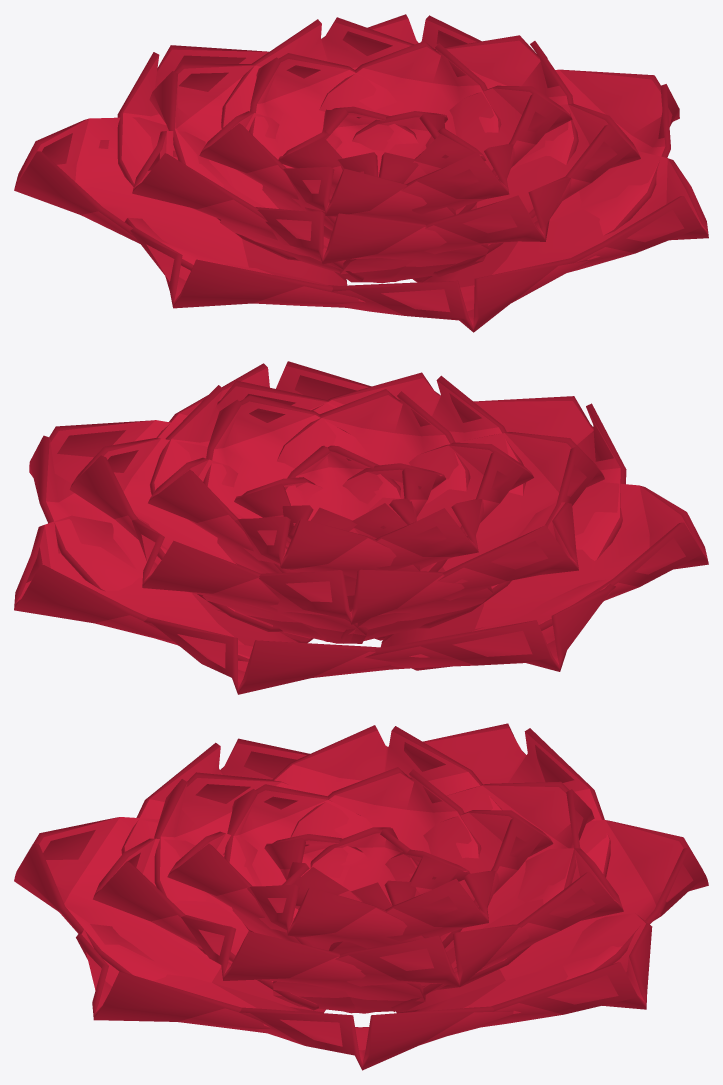
File: garden-rose-bloom-head-0-c41e39.glb
3 views of the same model, one above another, from view 1: azimuth 30°, elevation 25°; view 2: azimuth 150°, elevation 25°; view 3: azimuth 270°, elevation 25° (orthographic). The views are drawn at different scales.
Visible parts, largest first — view 1: rose-bloom-head-0-c41e39; view 2: rose-bloom-head-0-c41e39; view 3: rose-bloom-head-0-c41e39.
Boxes of the visible parts, <box> form: rose-bloom-head-0-c41e39: <box>14,14,708,332</box>; rose-bloom-head-0-c41e39: <box>14,361,708,694</box>; rose-bloom-head-0-c41e39: <box>14,723,708,1070</box>.
Bounding box in the file's own units: 0.1476 × 0.0456 × 0.1464.
